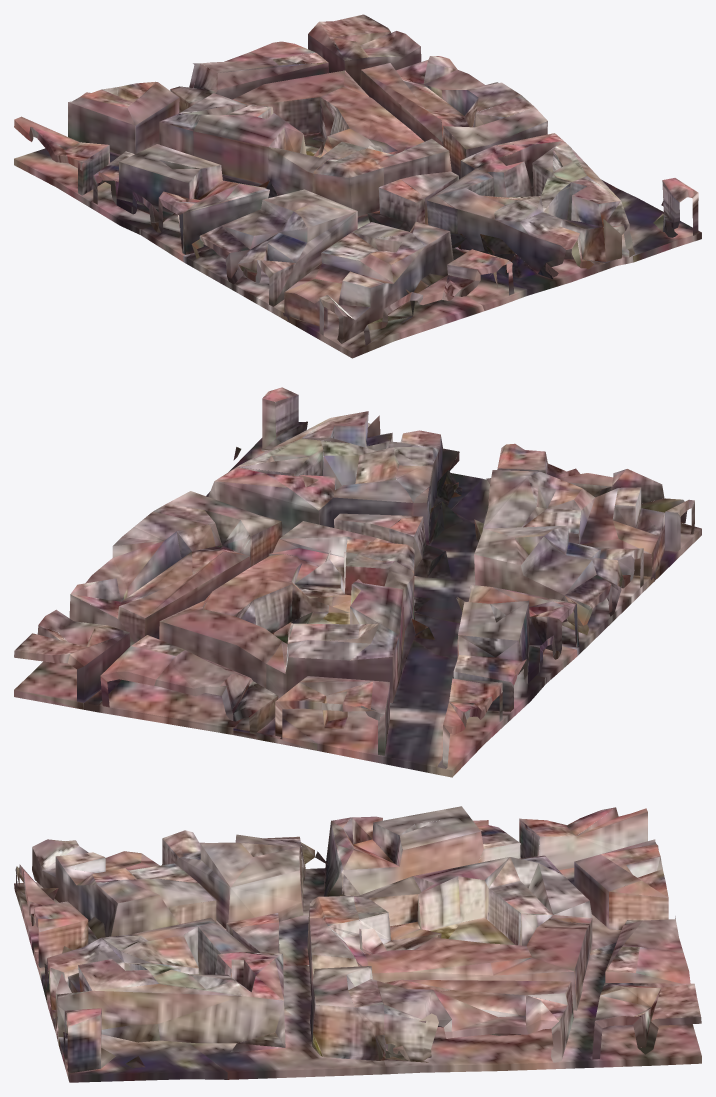
3 views of the same model, one above another, from view 1: azimuth 30°, elevation 25°; view 2: azimuth 150°, elevation 25°; view 3: azimuth 270°, elevation 25° (orthographic). The views are drawn at different scales.
Visible parts, largest first — view 1: Mesh_0; view 2: Mesh_0; view 3: Mesh_0.
Part boxes in pixels (box(x1,y1,x2,y2)): Mesh_0: box(14, 14, 701, 358); Mesh_0: box(14, 387, 701, 777); Mesh_0: box(14, 806, 701, 1082).
Size of the model in its own units: 266 by 42.26 by 330.
2 materials, 2 textured.
